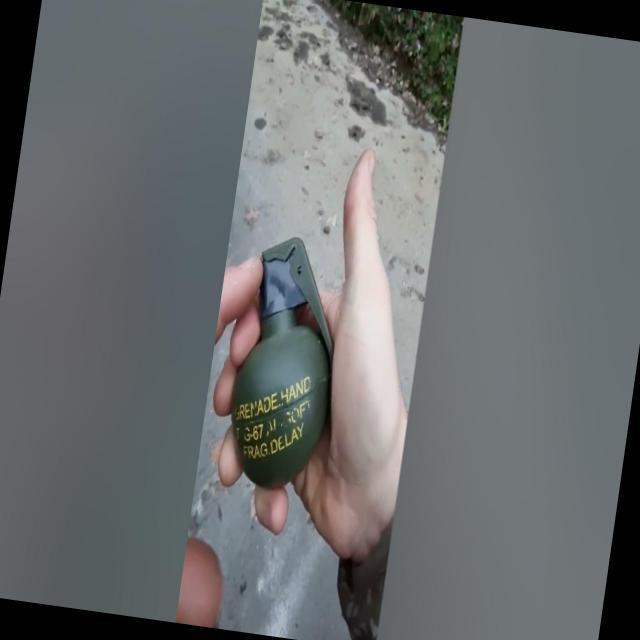grenade: (222, 238, 357, 492)
